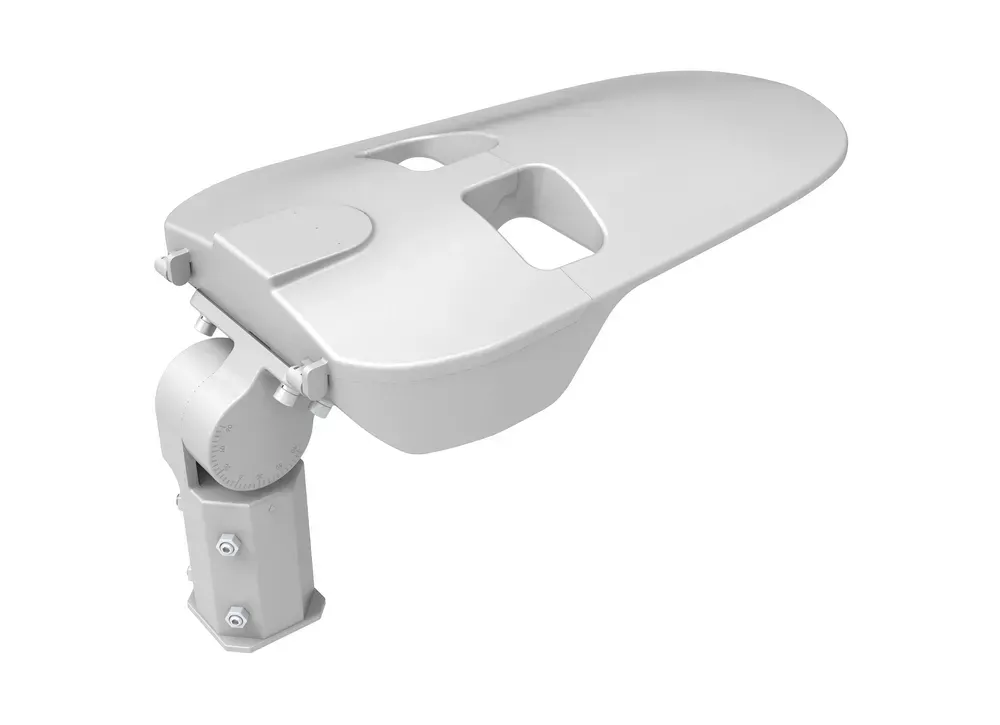Top_Street_Light: (127, 42, 876, 383)
